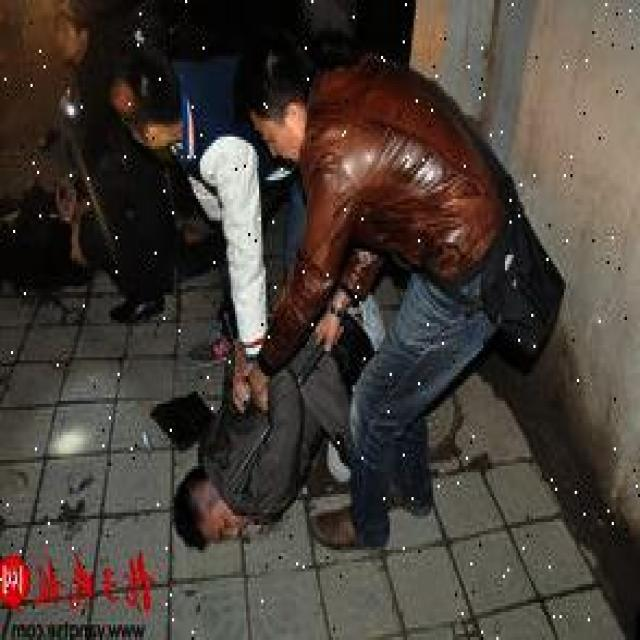fall: (172, 326, 359, 546)
